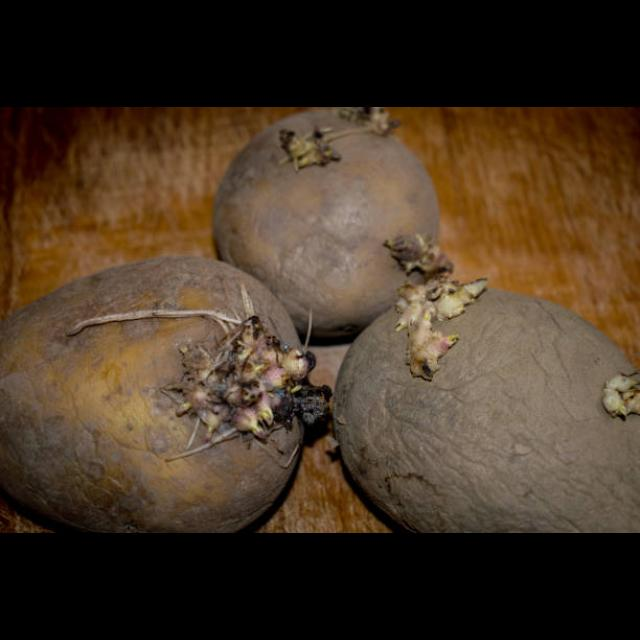Sprouted potato: (1, 245, 322, 533), (316, 263, 640, 533), (208, 114, 450, 336)
